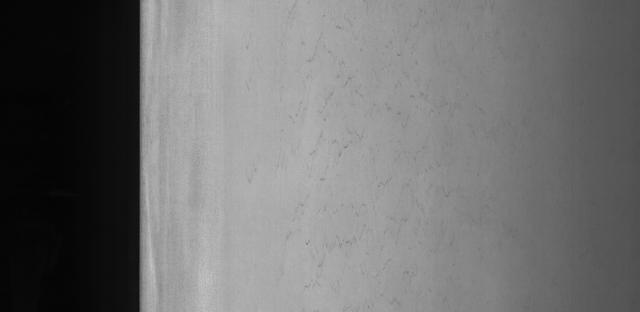silk_spot: (278, 27, 445, 268)
